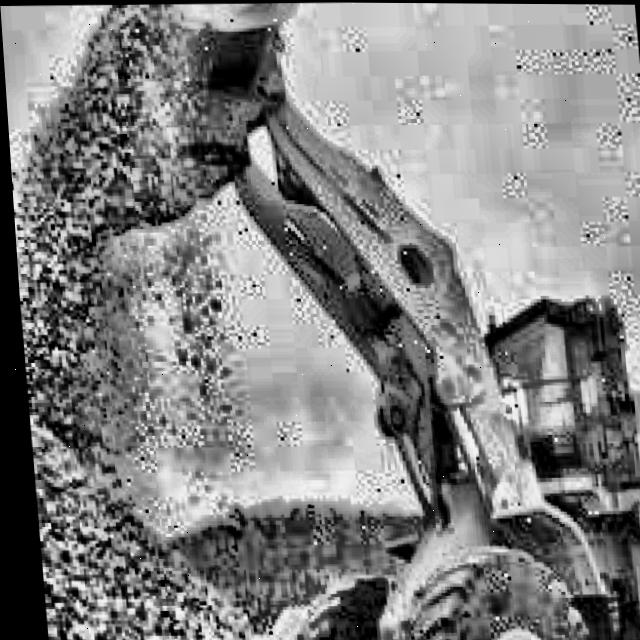buldozerpayloadergrader: (83, 0, 640, 640)
